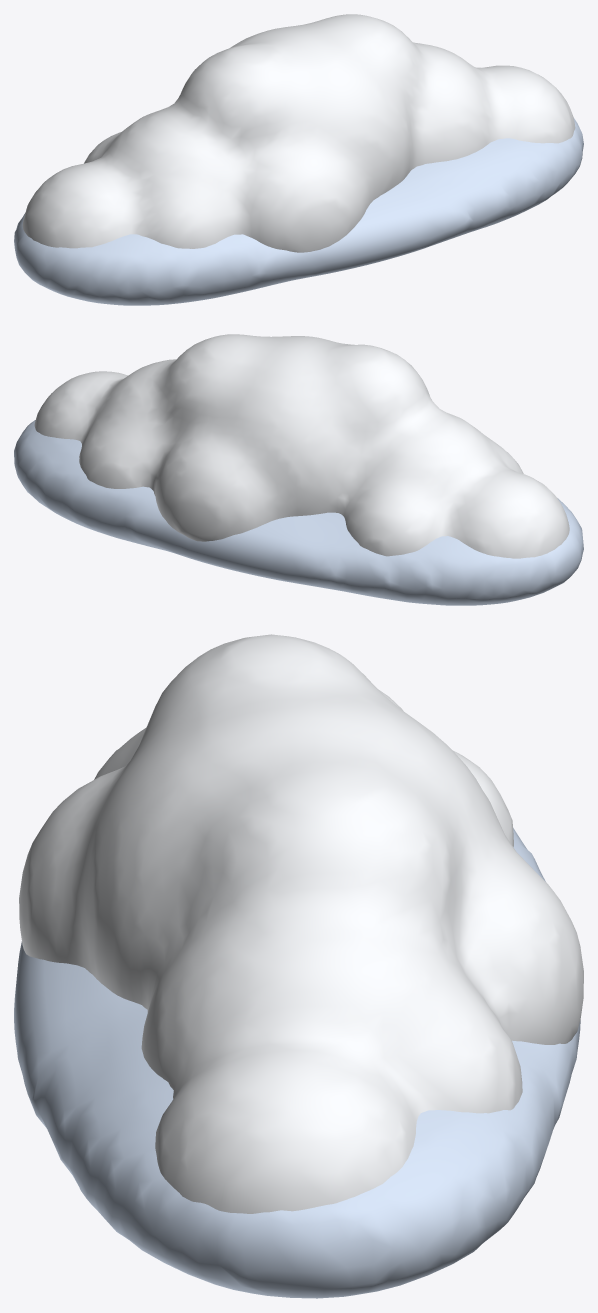
Rendered from ParasolPlummetCloud.obj.
3 views of the same model, one above another, from view 1: azimuth 30°, elevation 25°; view 2: azimuth 150°, elevation 25°; view 3: azimuth 270°, elevation 25° (orthographic). The views are drawn at different scales.
Parts seen in each view (by area): view 1: Cloud, Shade; view 2: Cloud, Shade; view 3: Cloud, Shade.
Part boxes in pixels (left/top/right/bottom): Cloud: left=22, top=14, right=575, bottom=252; Shade: left=14, top=118, right=583, bottom=305; Cloud: left=34, top=334, right=569, bottom=558; Shade: left=14, top=420, right=583, bottom=605; Cloud: left=19, top=634, right=583, bottom=1213; Shade: left=14, top=827, right=580, bottom=1298.
Bounding box in the file's own units: 13.84 × 5.06 × 6.54.
